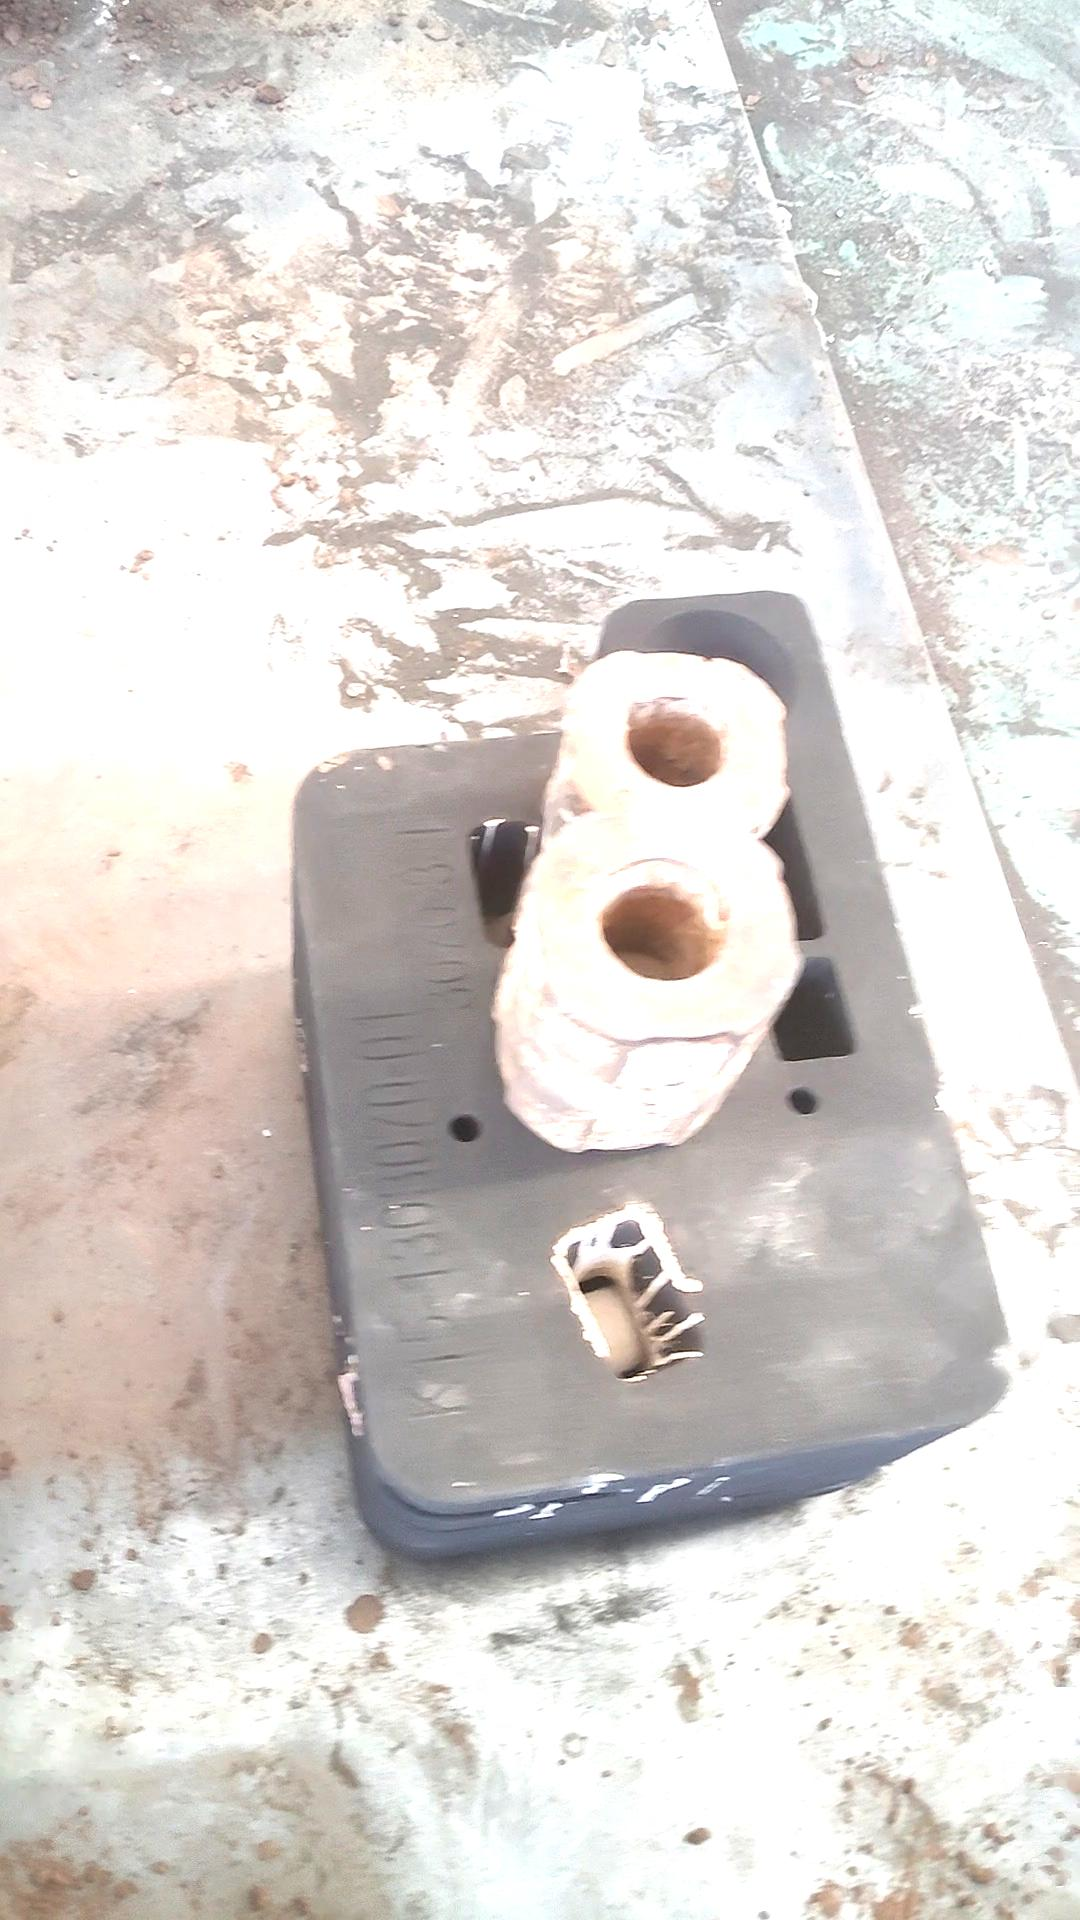pouring hole: (641, 608, 796, 729)
